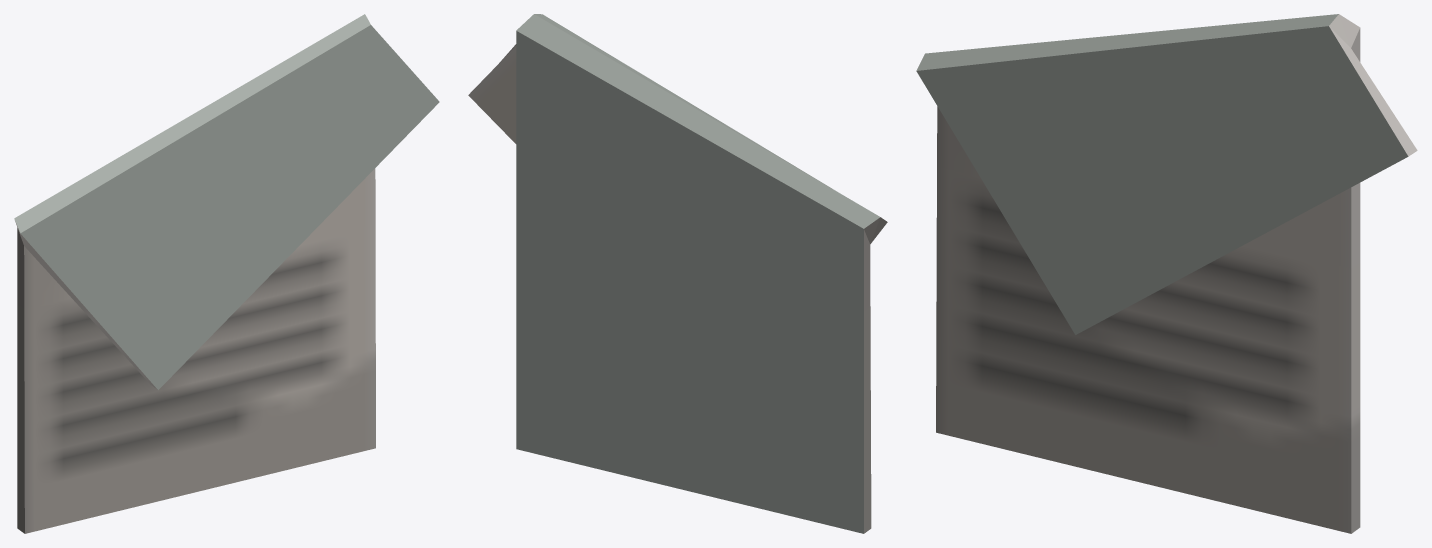
Rendered from SM_Prop_Poster_04.fbx.
3 renders of one model, left to right at view 1: azimuth 30°, elevation 25°; view 2: azimuth 150°, elevation 25°; view 3: azimuth 330°, elevation 25°, orthographic. The views are drawn at different scales.
Visible parts, largest first — view 1: SM_Prop_Poster_04; view 2: SM_Prop_Poster_04; view 3: SM_Prop_Poster_04.
Part boxes in pixels (bbox=[...]): SM_Prop_Poster_04: bbox=[14, 14, 439, 533]; SM_Prop_Poster_04: bbox=[468, 14, 887, 533]; SM_Prop_Poster_04: bbox=[916, 14, 1417, 533].
Bounding box in the file's own units: 47.38 × 47.31 × 3.
